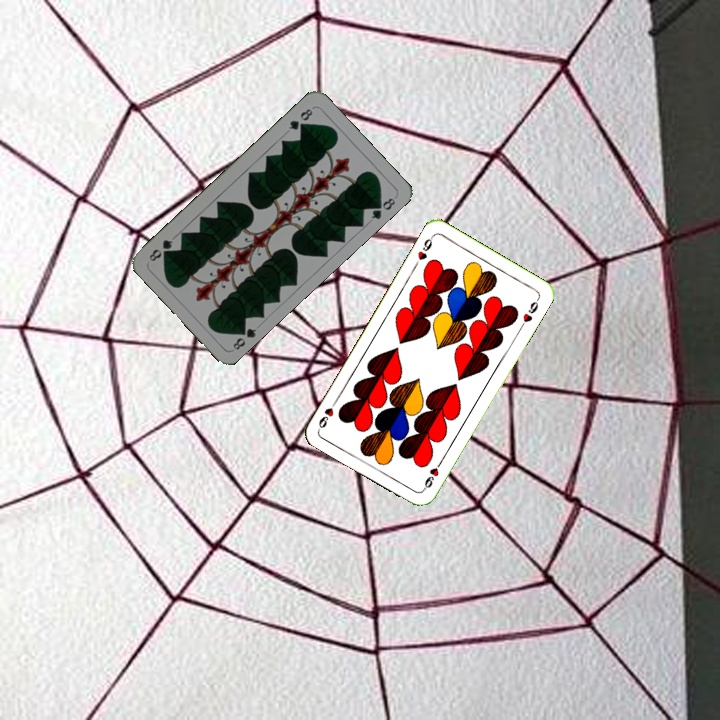G8: (229, 321, 259, 352), (285, 104, 316, 133)
H9: (410, 232, 436, 269), (419, 456, 445, 493)
